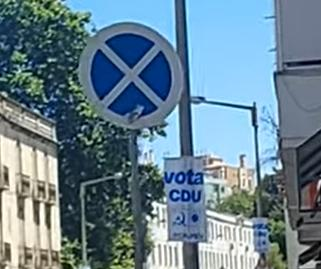paragem e estacionamneto proibidos: (75, 22, 192, 133)
